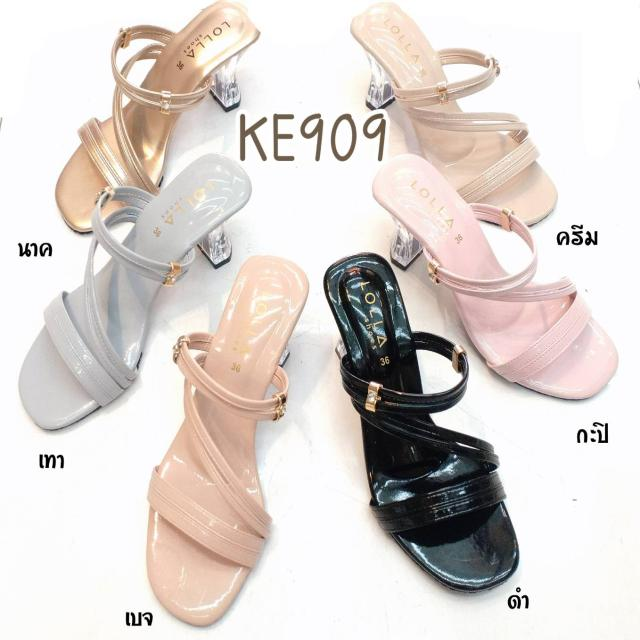bej: (135, 249, 310, 636)
black: (313, 250, 538, 608)
cream: (337, 3, 570, 235)
grey: (0, 160, 263, 436)
kapi: (363, 154, 624, 406)
nak: (49, 6, 269, 226)
